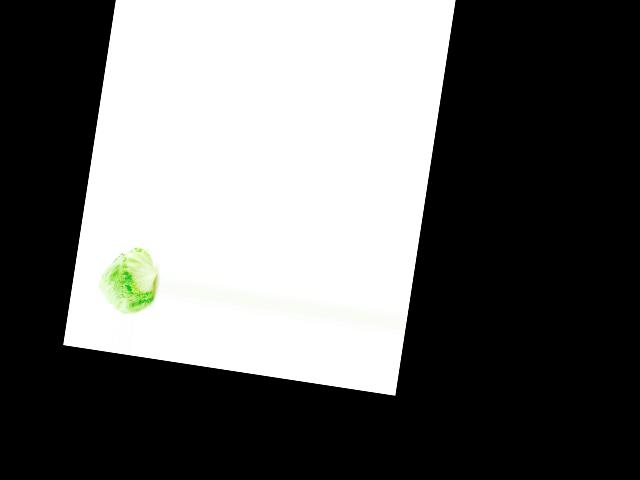lettuce: (93, 242, 161, 319)
